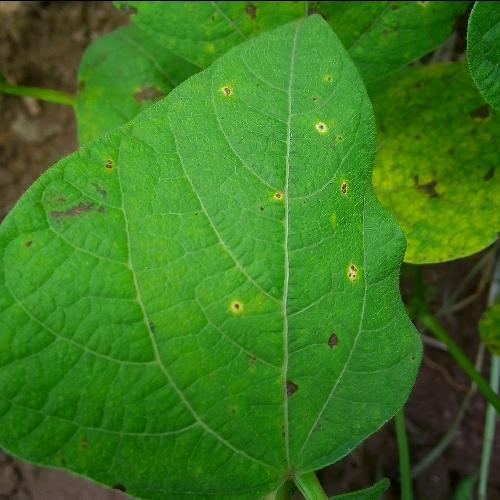hawar: (210, 65, 369, 218), (40, 152, 130, 255), (268, 366, 316, 413), (332, 250, 376, 291), (314, 323, 346, 368), (220, 288, 252, 328)
